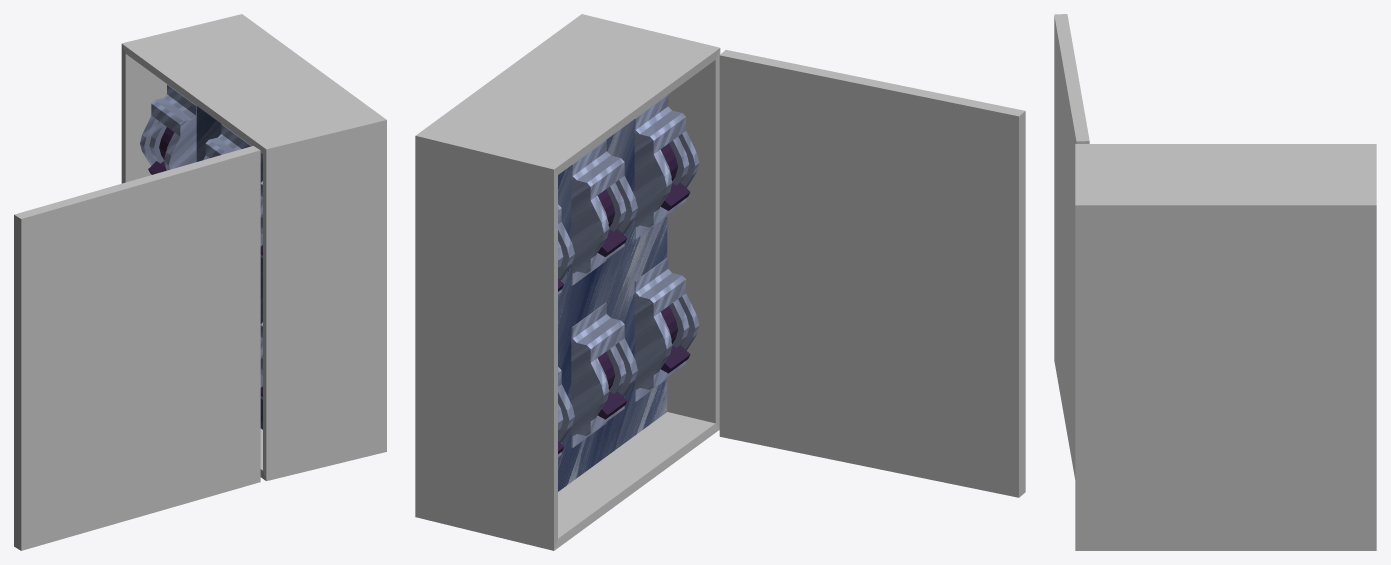
The model's file is pojistky 114.fbx.
The picture shows the model from 3 angles, left to right: view 1: azimuth 30°, elevation 25°; view 2: azimuth 150°, elevation 25°; view 3: azimuth 270°, elevation 25°; orthographic projection. The views are drawn at different scales.
Parts seen in each view (by area): view 1: Pojistky_dvirka, Pojistky_telo, Pojistky_velka_cast_tlacitka_1, Pojistky_vnitrek_pojistek, Pojistky_velka_cast_tlacitka_2; view 2: Pojistky_dvirka, Pojistky_telo, Pojistky_vnitrek_pojistek, Pojistky_velka_cast_tlacitka_5, Pojistky_velka_cast_tlacitka_2, Pojistky_velka_cast_tlacitka_6, Pojistky_velka_cast_tlacitka_3, Pojistky_mala_cast_tlacitka_6, Pojistky_mala_cast_tlacitka_2, Pojistky_mala_cast_tlacitka_3, Pojistky_mala_cast_tlacitka_5, Pojistky_velka_cast_tlacitka_1 (+1 smaller); view 3: Pojistky_telo, Pojistky_dvirka.
Part boxes in pixels (x1,y1,x2,y2): Pojistky_dvirka: (14,146,260,550); Pojistky_telo: (121,14,386,480); Pojistky_velka_cast_tlacitka_1: (140,84,196,174); Pojistky_vnitrek_pojistek: (196,106,262,429); Pojistky_velka_cast_tlacitka_2: (203,124,251,160); Pojistky_dvirka: (719,50,1025,497); Pojistky_telo: (415,14,720,550); Pojistky_vnitrek_pojistek: (558,119,667,491); Pojistky_velka_cast_tlacitka_5: (571,302,637,447); Pojistky_velka_cast_tlacitka_2: (571,140,637,285); Pojistky_velka_cast_tlacitka_6: (634,257,699,401); Pojistky_velka_cast_tlacitka_3: (634,95,699,239); Pojistky_mala_cast_tlacitka_6: (661,306,690,373); Pojistky_mala_cast_tlacitka_2: (597,189,627,256); Pojistky_mala_cast_tlacitka_3: (660,143,690,210); Pojistky_mala_cast_tlacitka_5: (597,352,627,419); Pojistky_velka_cast_tlacitka_1: (558,204,574,294); Pojistky_telo: (1075,144,1376,550); Pojistky_dvirka: (1054,14,1089,479).
Size of the model in its own units: 165 by 139 by 118.
